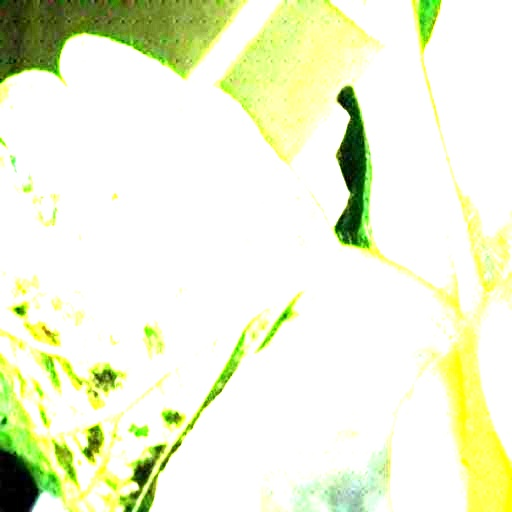Angular Leafspot: (0, 130, 312, 511)
